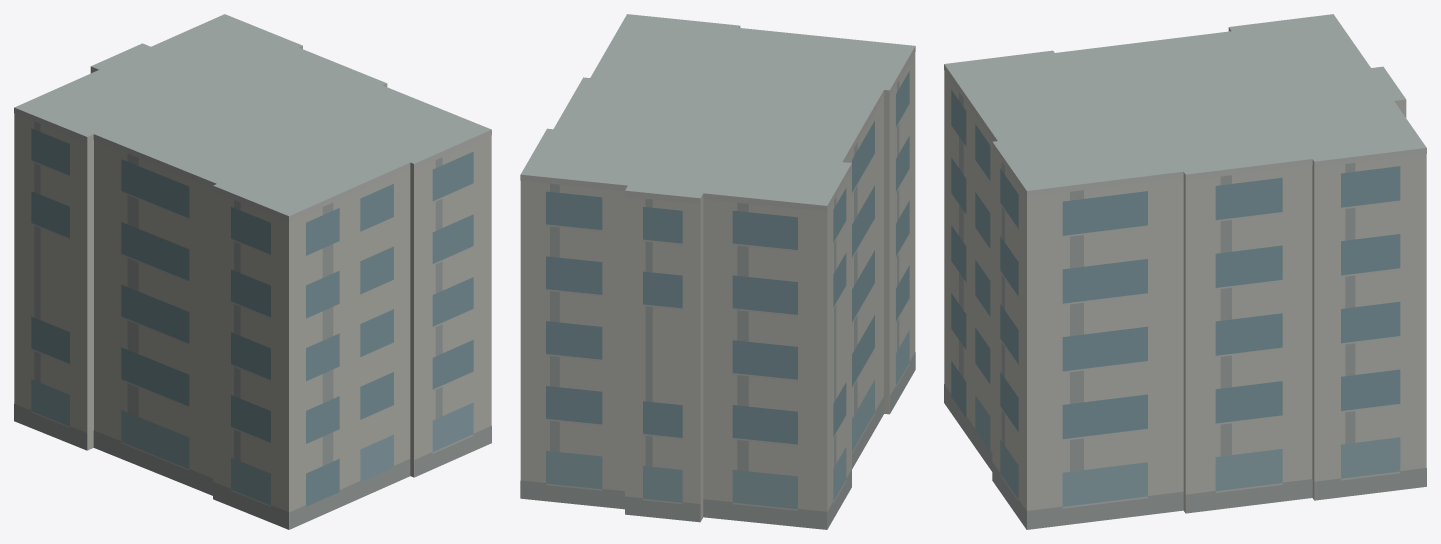
Rendered from survey-upis-32625136.glb.
3 renders of one model, left to right at view 1: azimuth 30°, elevation 25°; view 2: azimuth 150°, elevation 25°; view 3: azimuth 270°, elevation 25°, orthographic. The views are drawn at different scales.
Parts seen in each view (by area): view 1: survey-upis-32625136.tmp; view 2: survey-upis-32625136.tmp; view 3: survey-upis-32625136.tmp.
Part boxes in pixels (box(x1,y1,x2,y2)): survey-upis-32625136.tmp: box(14, 14, 491, 529); survey-upis-32625136.tmp: box(520, 14, 915, 529); survey-upis-32625136.tmp: box(944, 14, 1426, 529).
Size of the model in its own units: 14.85 by 13.25 by 17.11.
